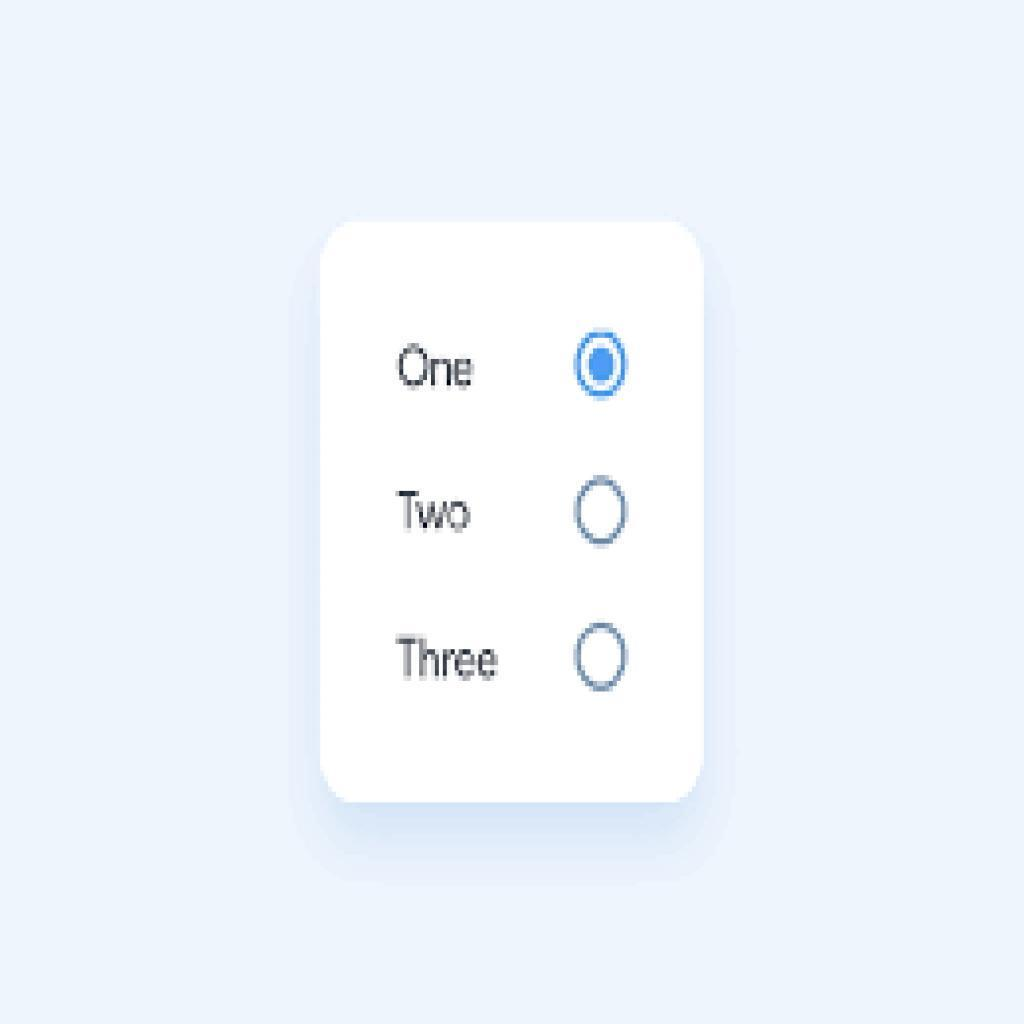label: (393, 630, 505, 692), (395, 339, 484, 399), (397, 489, 476, 542)
radio: (571, 327, 633, 408), (574, 475, 633, 552), (575, 624, 629, 696)
